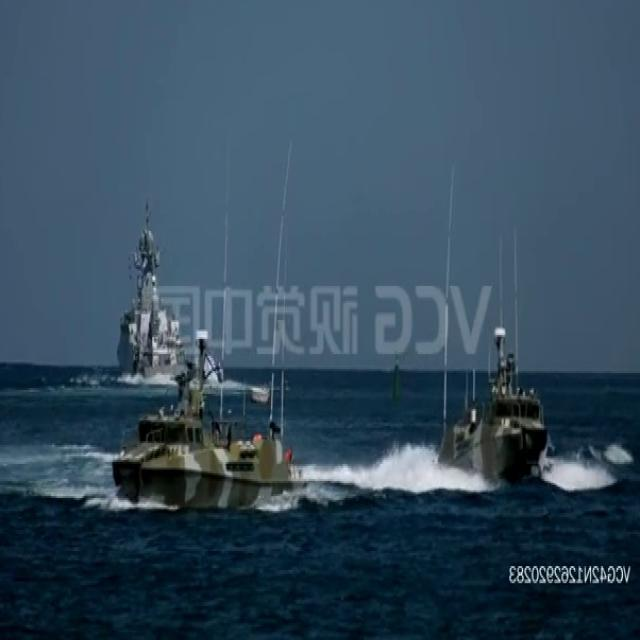houseboat: (115, 366, 305, 512), (441, 299, 547, 482)
navalvessels: (118, 192, 184, 376)
